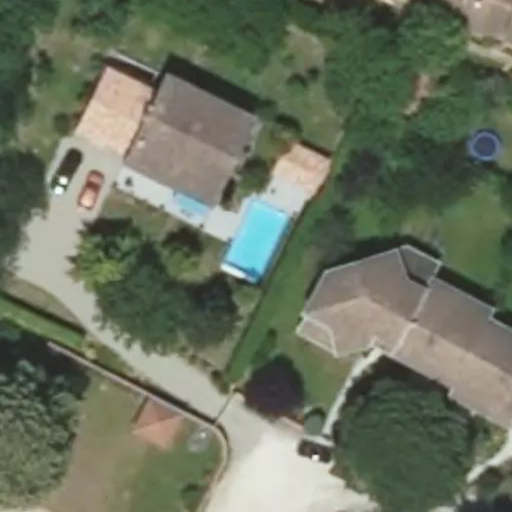pool: (223, 202, 289, 281)
